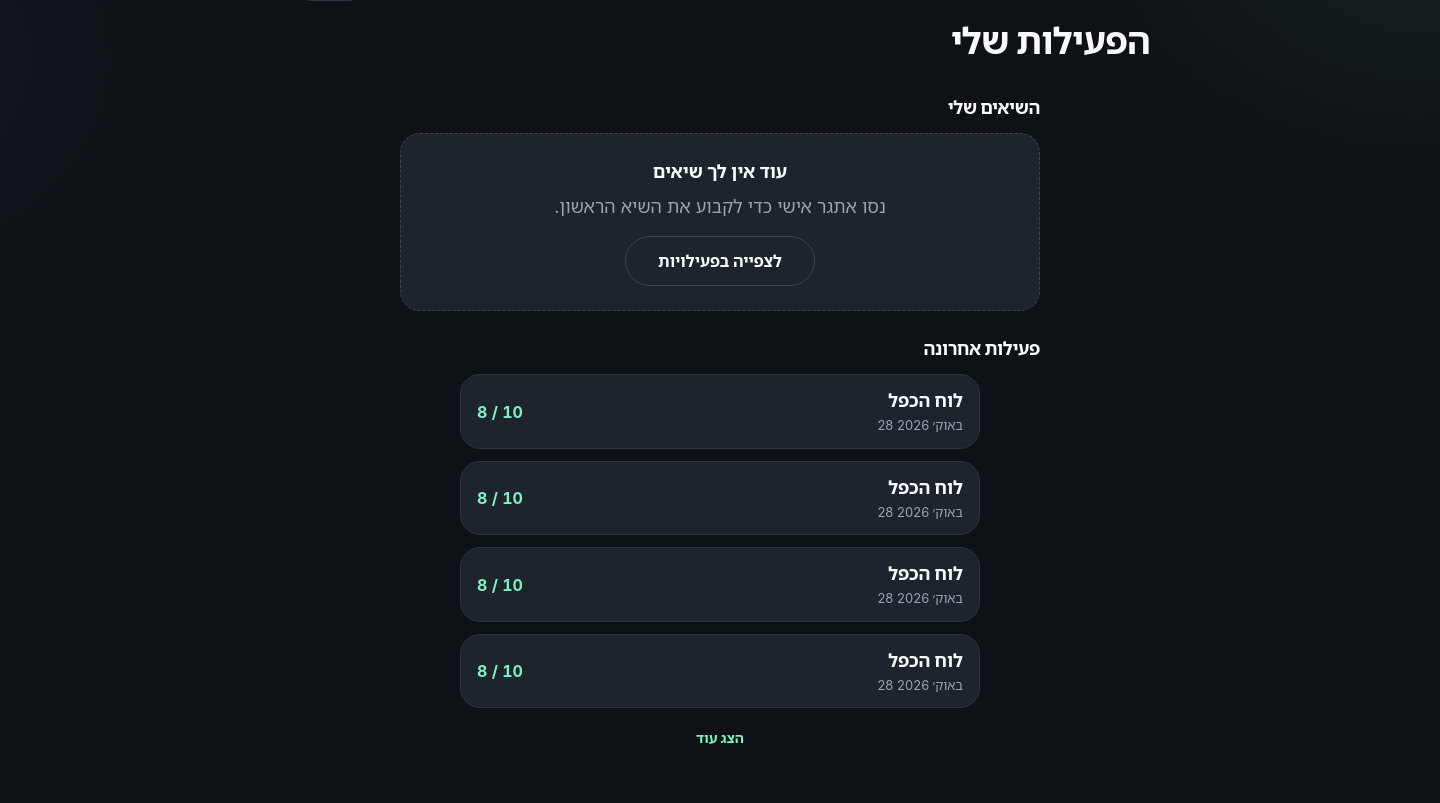
Test: ActivityPage — recent activity › shows only the latest few attempts, with a way to reveal more
(page scrolled)
Check: the heading "פעילות אחרונה" is shown, box [924,338,1040,359]
Click the button "הצג עוד": (720, 738) [680,720,760,755]
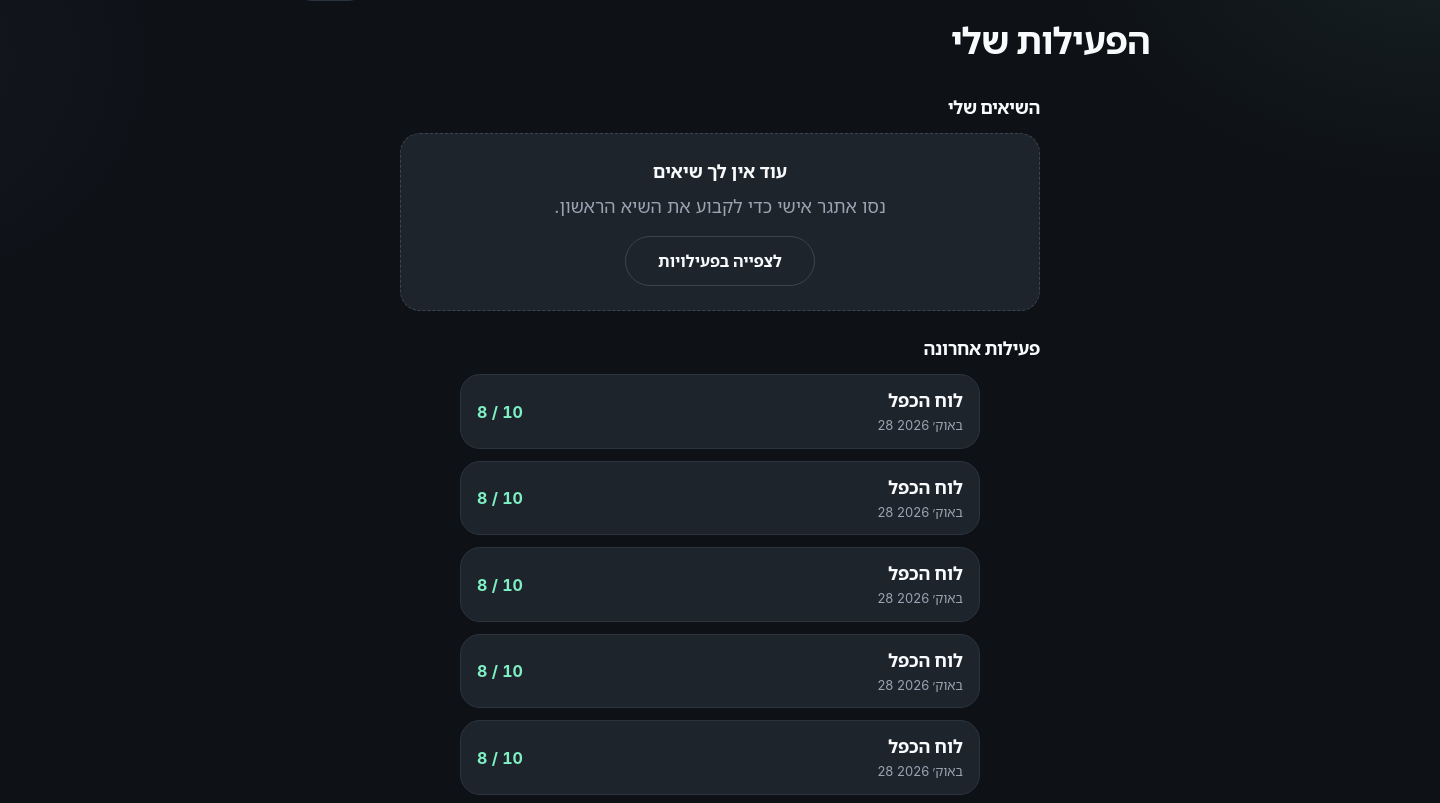
Check: the number of elements with class "activity-row" is 6
